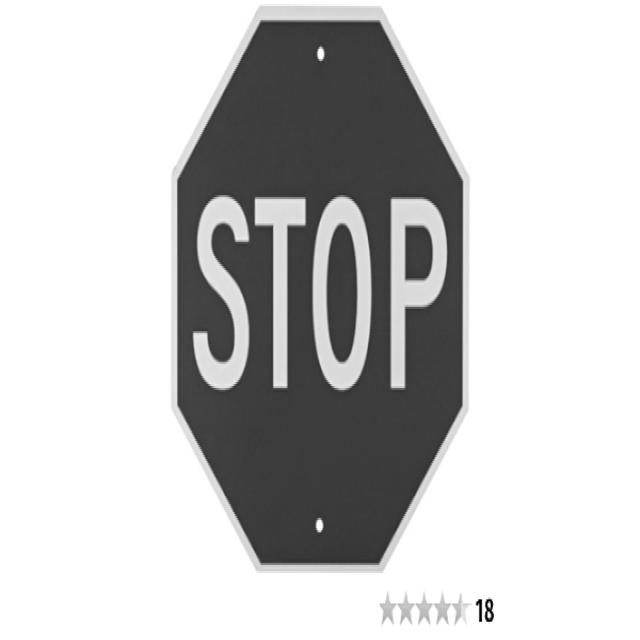stop: (171, 0, 470, 572)
